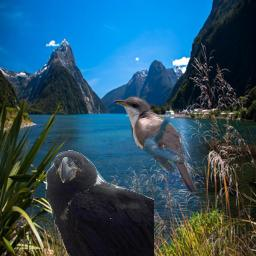Crow: (44, 150, 154, 256)
Cuckoo: (112, 94, 196, 195)
